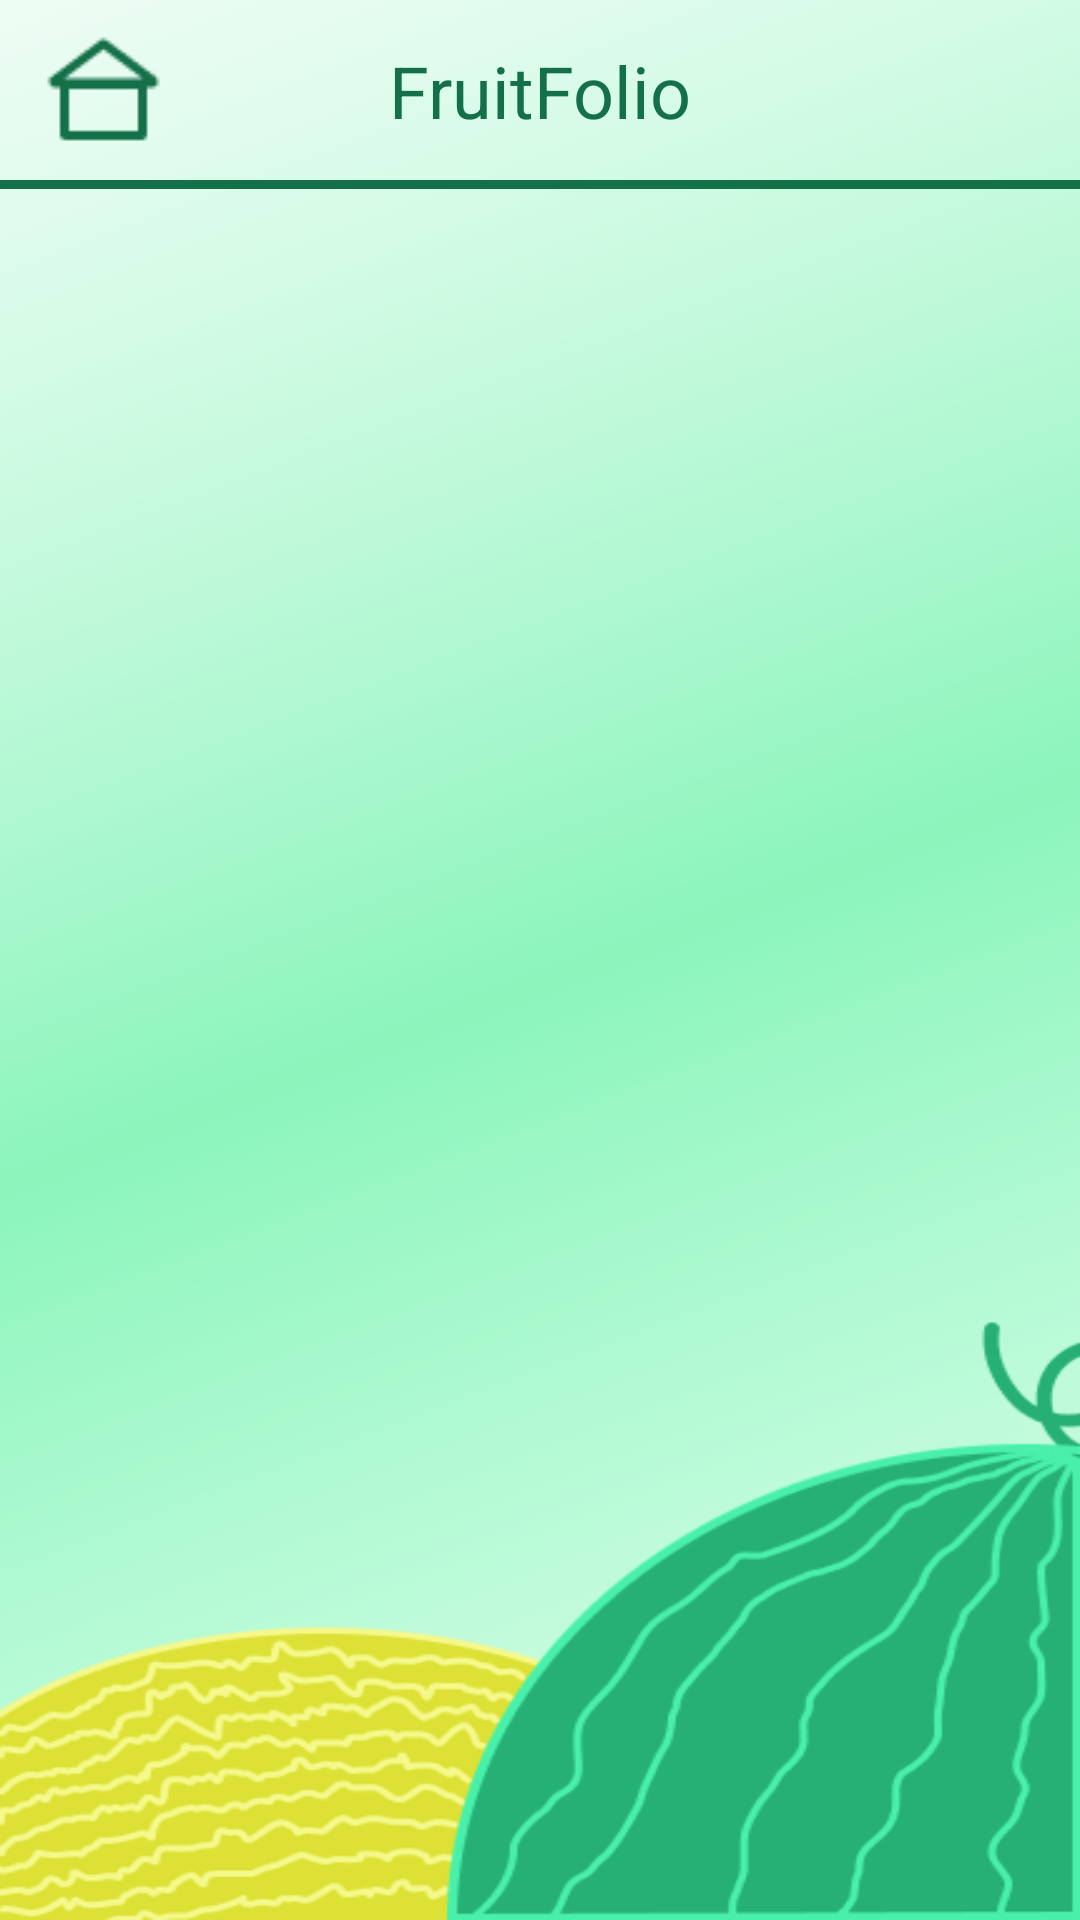

Where icons sit on this 1080×1920 app screen, as (x1, y1, x2, y2):
Home: (47, 37, 160, 141)
